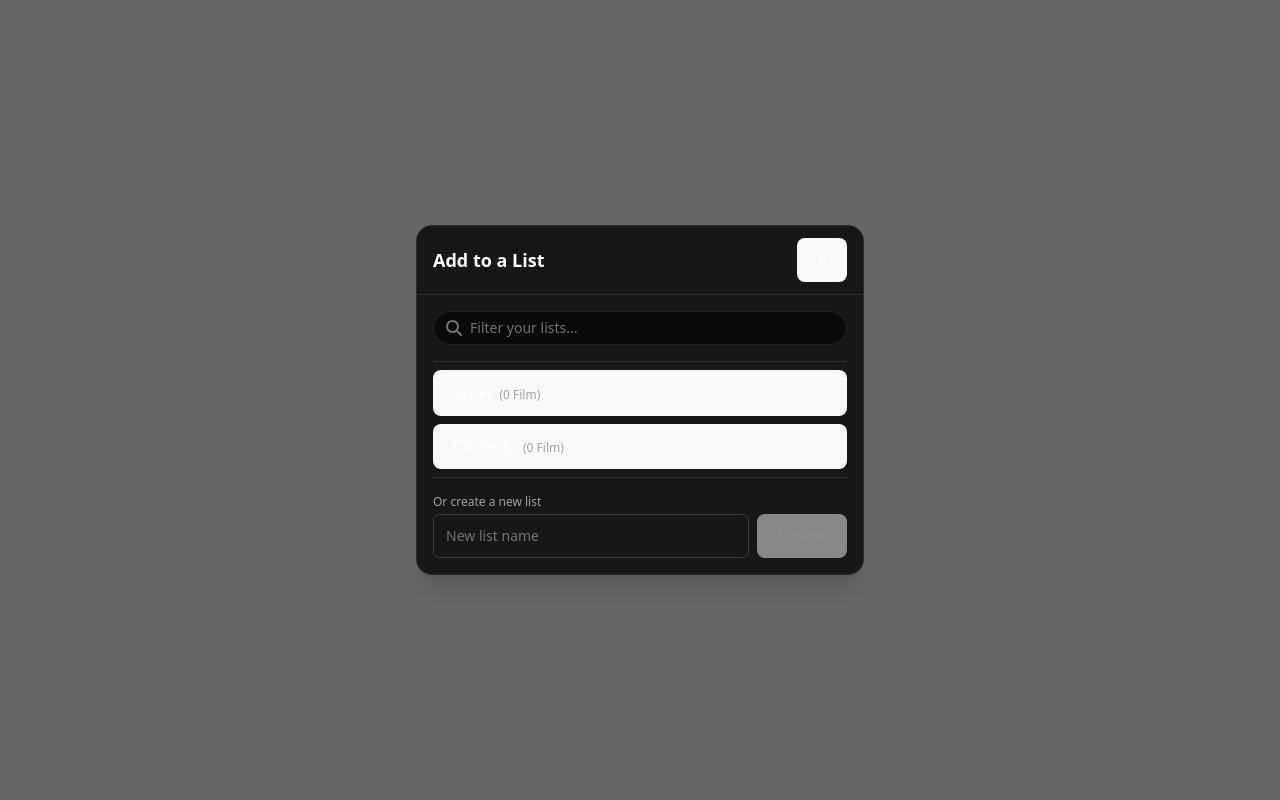
Test: AddToListModel Component › filters lists based on search term
Type "Sci" into the field with placeholder "Filter your lists...".
click(652, 328); type("Sci")  # box [470,318,834,338]
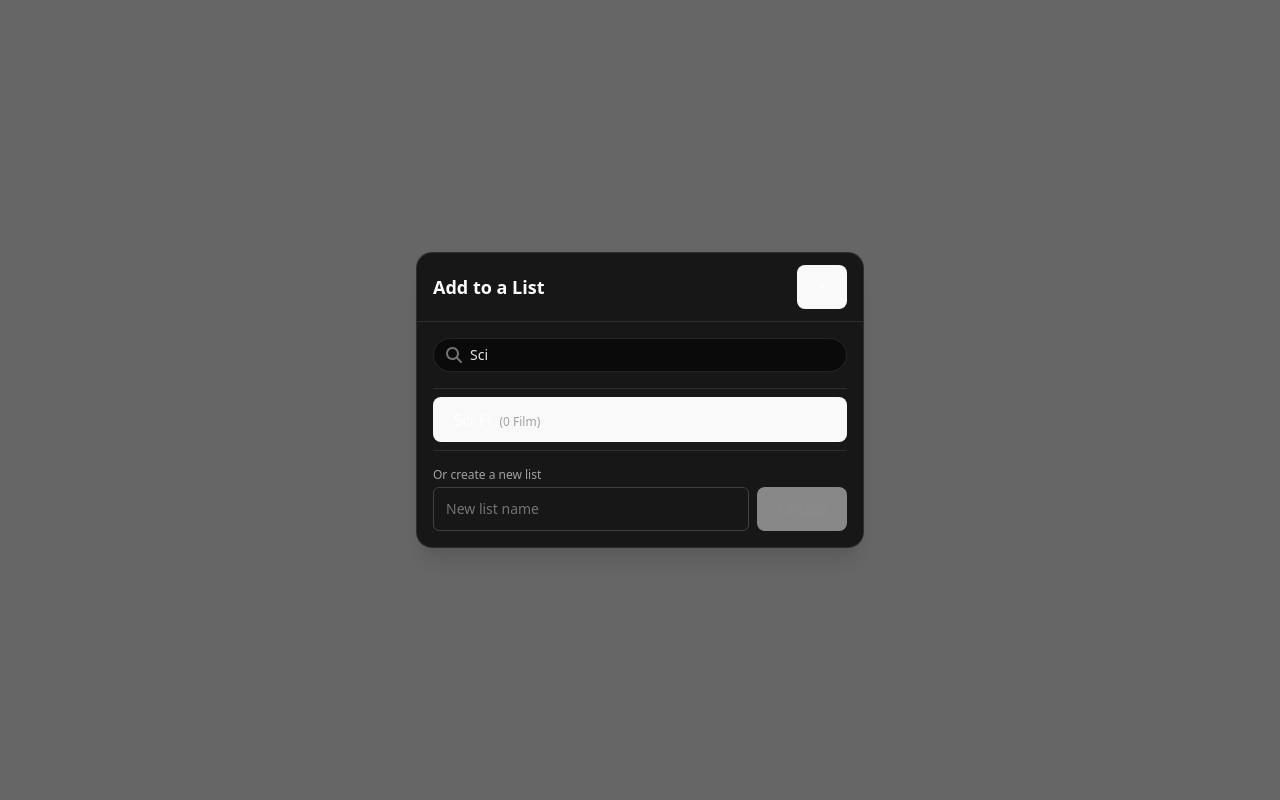
Result: the button "Comedy" is gone
